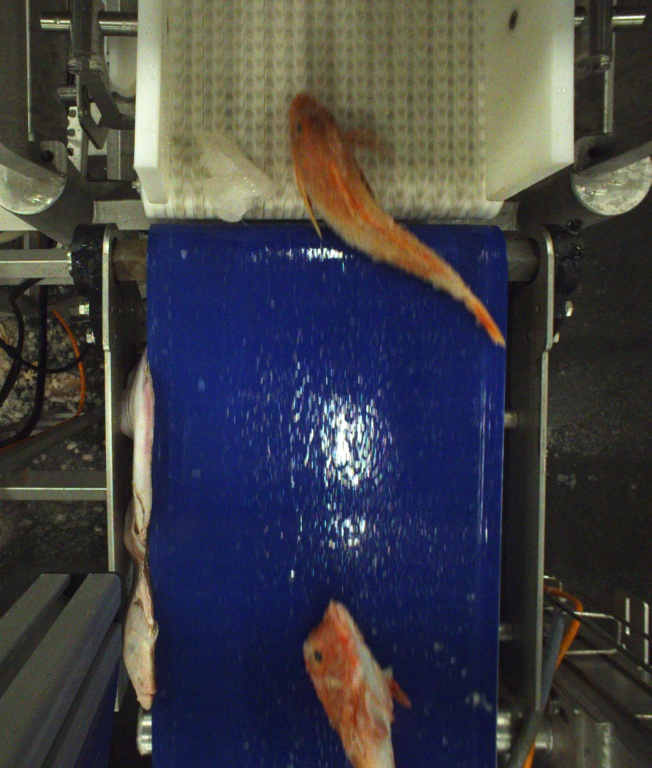GUU: (300, 597, 401, 768)
